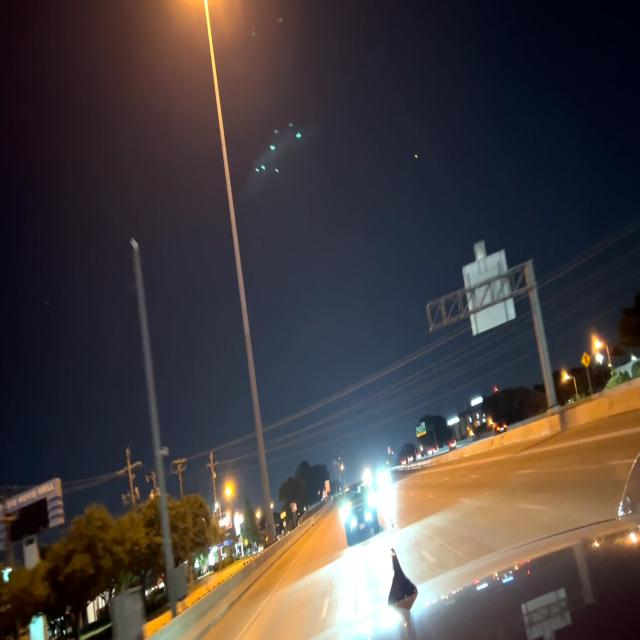back-of-sign: (462, 241, 516, 337)
